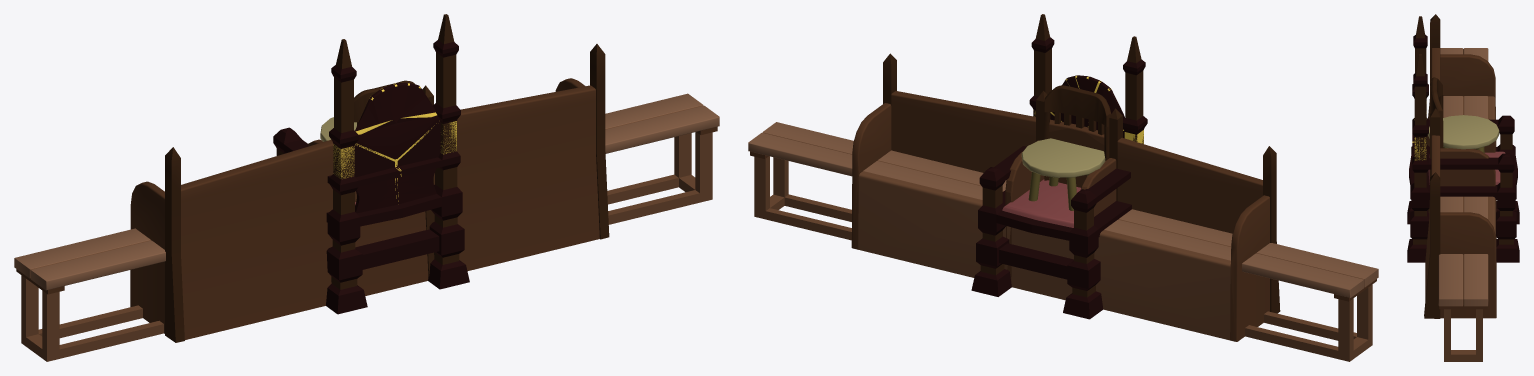
Rendered from Chairs.fbx.
3 renders of one model, left to right at view 1: azimuth 30°, elevation 25°; view 2: azimuth 150°, elevation 25°; view 3: azimuth 270°, elevation 25°, orthographic. The views are drawn at different scales.
Parts seen in each view (by area): view 1: Pew01, Throne01A, Bench01L, Throne01B; view 2: Pew01, Bench01L, Throne01A, Chair03, Stool, Chair01, Bench01S, Throne01B; view 3: Pew01, Throne01A, Bench01L, Chair03, Stool, Bench01S, Chair01, Throne01B.
Part boxes in pixels (x1,y1,x2,y2): Pew01: [130, 44, 609, 342]; Throne01A: [273, 14, 469, 314]; Bench01L: [14, 93, 719, 361]; Throne01B: [329, 82, 458, 216]; Pew01: [851, 53, 1280, 341]; Bench01L: [748, 122, 1378, 361]; Throne01A: [971, 14, 1147, 319]; Chair03: [1005, 91, 1122, 300]; Stool: [1021, 138, 1105, 210]; Chair01: [1044, 85, 1111, 180]; Bench01S: [898, 158, 1229, 251]; Throne01B: [1030, 75, 1146, 143]; Pew01: [1424, 14, 1496, 318]; Throne01A: [1407, 16, 1519, 262]; Bench01L: [1438, 48, 1488, 361]; Chair03: [1428, 83, 1496, 238]; Stool: [1428, 115, 1499, 152]; Bench01S: [1446, 109, 1487, 218]; Chair01: [1431, 77, 1443, 148]; Throne01B: [1409, 92, 1428, 183].
Size of what is drawn, in the model's own units: 3.78 by 1.42 by 0.7157.
